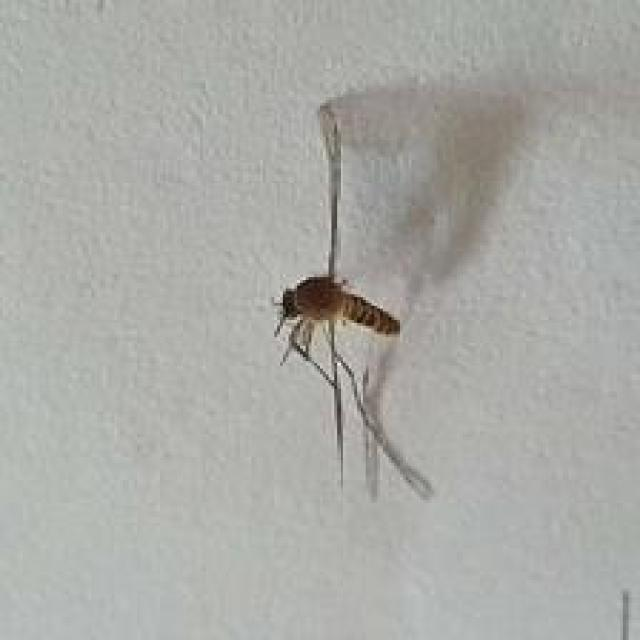Culex: (270, 110, 436, 501)
